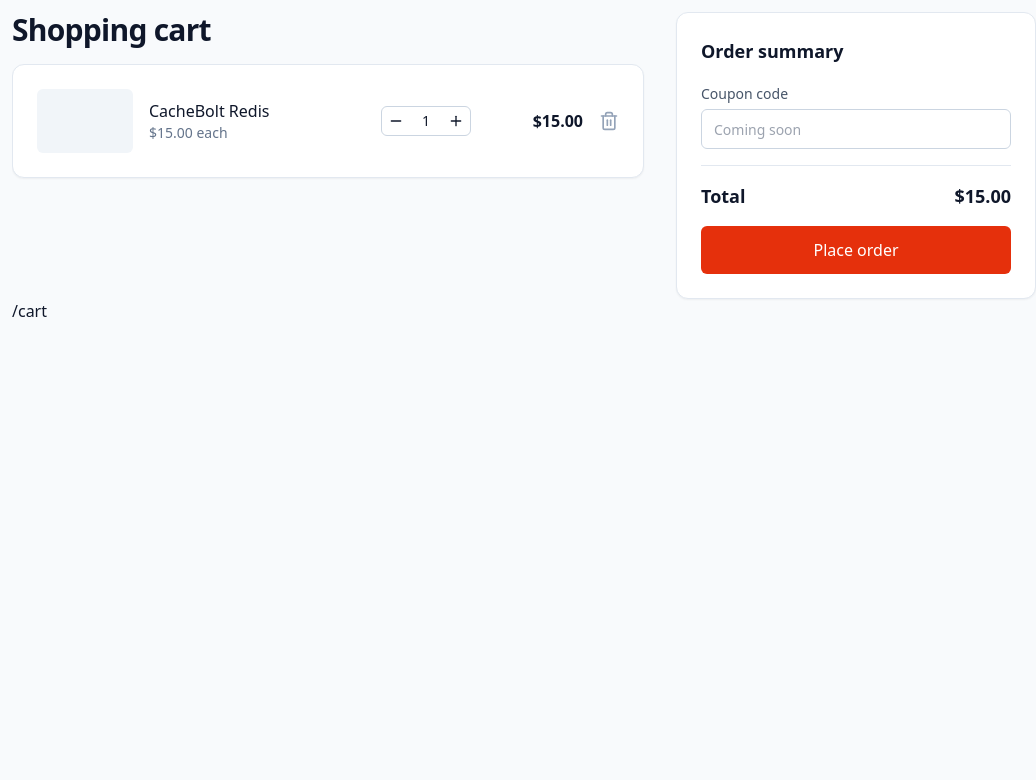
Test: Cart page › keeps the cart and shows the error when checkout fails
Step 1. Click the button "Place order" → (856, 250), box [701,226,1011,274]
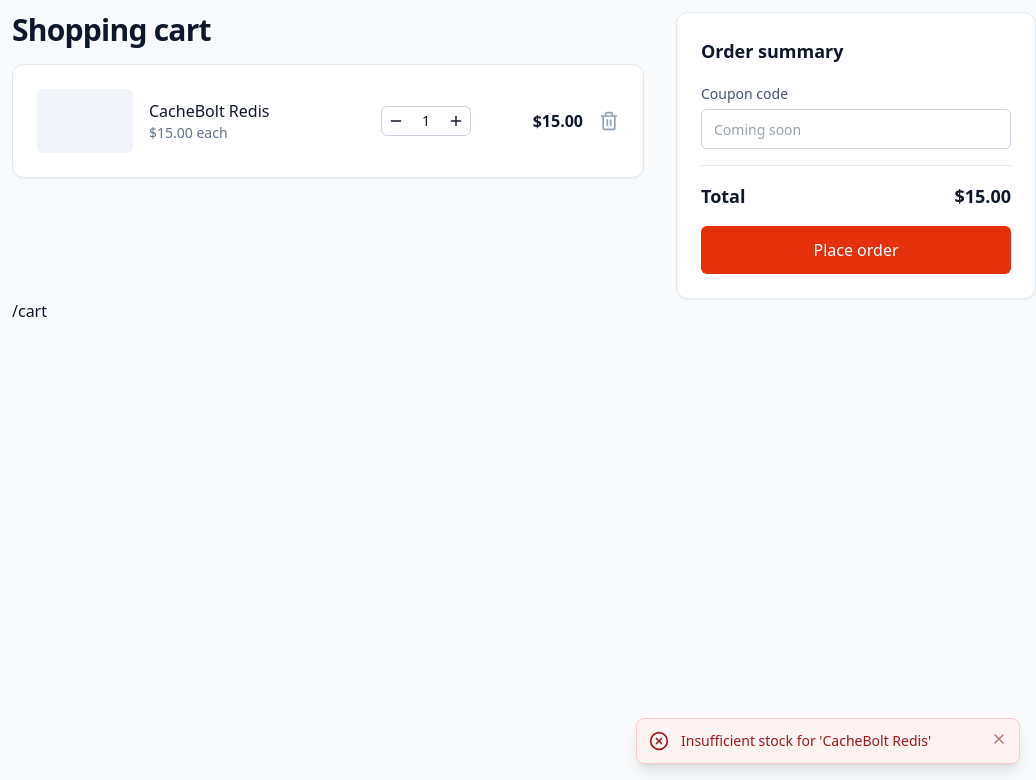
expect the text with test id "location" reads "/cart": met, box [12,300,47,322]
expect the text "Insufficient stock for 'CacheBolt Redis'" is shown: met, box [681,731,931,750]
